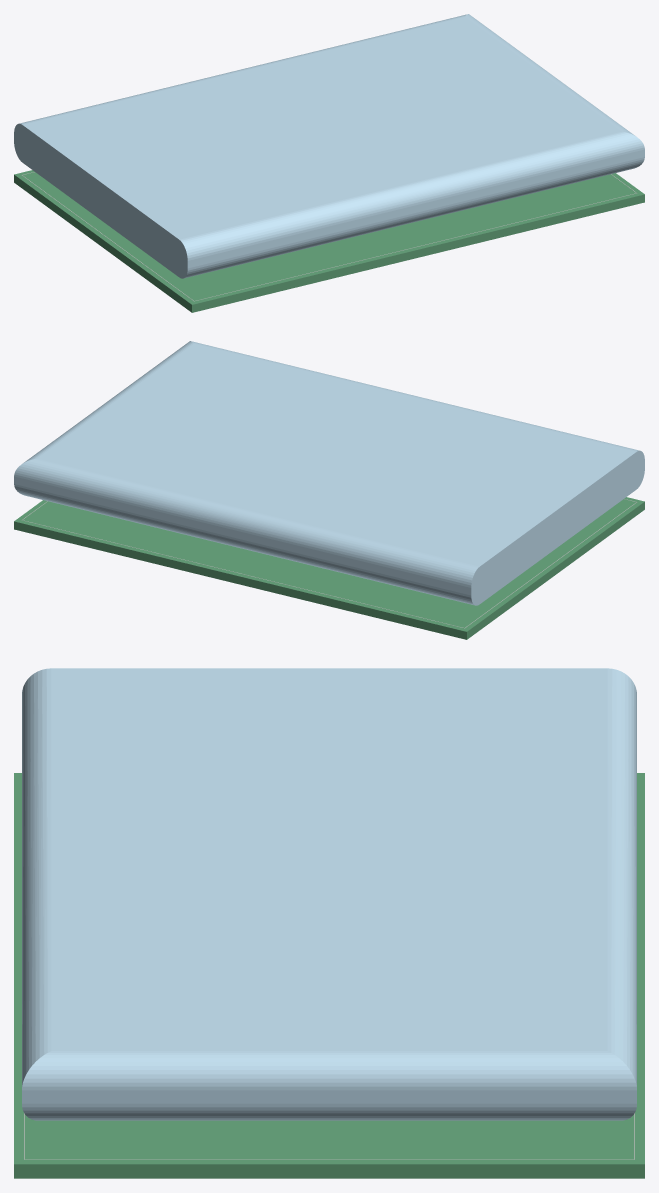
File: head.glb
The picture shows the model from 3 angles, top to bottom: view 1: azimuth 30°, elevation 25°; view 2: azimuth 150°, elevation 25°; view 3: azimuth 270°, elevation 25°; orthographic projection. The views are drawn at different scales.
Parts seen in each view (by area): view 1: model_1_0_LiPo 706292, PCB, F.Fab; view 2: model_1_0_LiPo 706292, PCB, F.Fab; view 3: model_1_0_LiPo 706292, PCB.
Part boxes in pixels (x1,y1,x2,y2): model_1_0_LiPo 706292: (14,14,644,278); PCB: (14,170,644,312); F.Fab: (22,172,636,301); model_1_0_LiPo 706292: (14,341,644,605); PCB: (14,497,644,639); F.Fab: (22,499,636,628); model_1_0_LiPo 706292: (22,668,636,1120); PCB: (14,773,644,1178).
Size of the model in its own units: 95 by 13.1 by 64.1.
